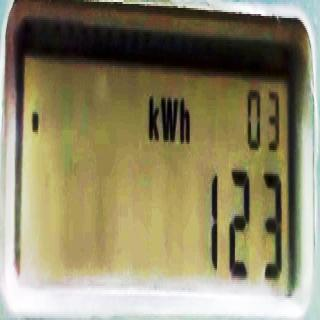-: (31, 101, 41, 144)
0: (245, 84, 262, 157)
1: (207, 167, 223, 277)
2: (228, 164, 252, 283)
3: (259, 167, 284, 291), (266, 82, 281, 164)
